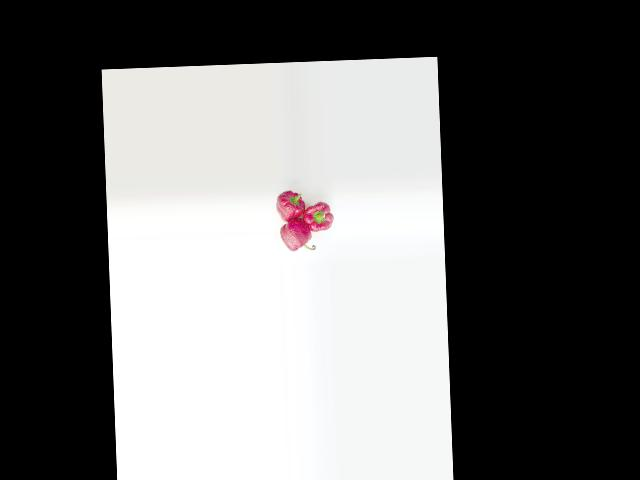bell_pepper: (278, 220, 317, 259)
